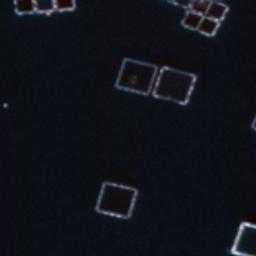square_divide: (182, 1, 235, 40)
square_solid: (109, 54, 162, 100), (150, 64, 201, 111), (90, 177, 142, 222), (226, 215, 256, 256)
